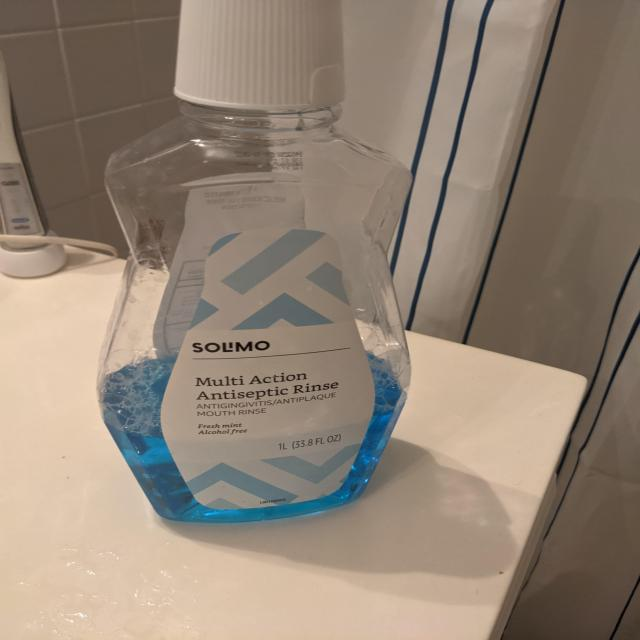litter: (93, 99, 417, 523), (171, 0, 347, 98)
